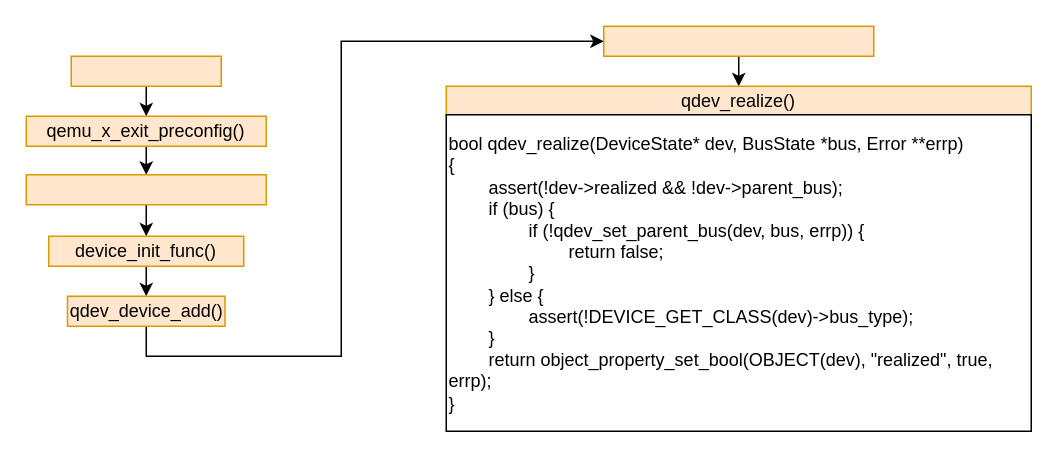
Image size: 1058x458. Some labels were removed from this diagram. The shapes that lost their labels are listed below. From the top down, each one's centre as x and y in pixels, then its label:
the point at 738,40: qdev_device_add_from_qdict()
the point at 145,70: qemu_init()
the point at 145,189: qemu_create_cli_devices()
